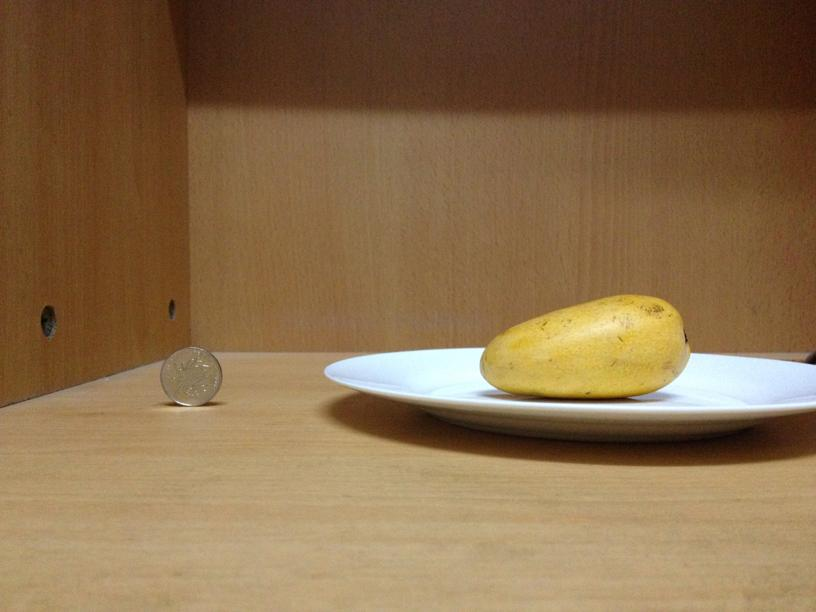coin: (156, 344, 223, 407)
mango: (481, 290, 691, 398)
